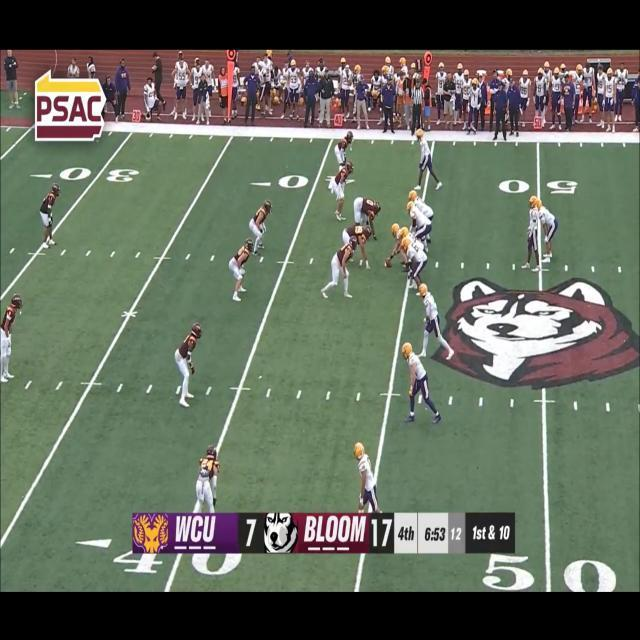football: (382, 253, 392, 275)
